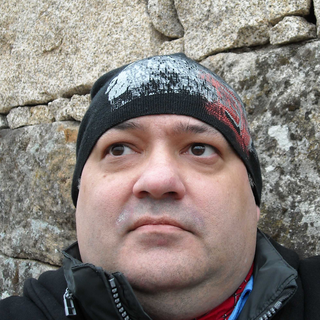eye: (178, 138, 224, 163), (100, 138, 143, 163)
